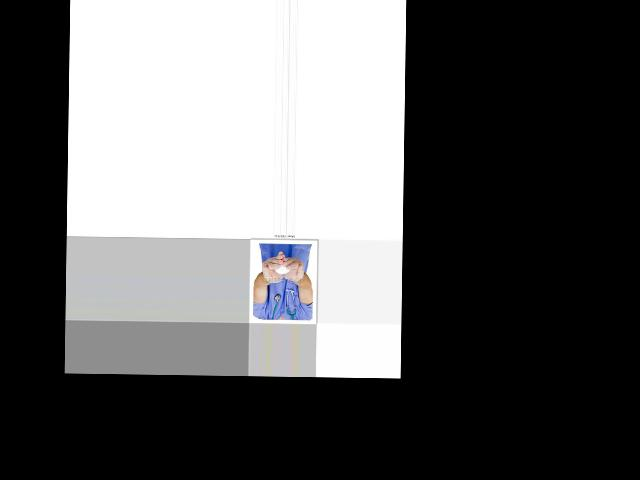egg: (275, 263, 290, 274)
